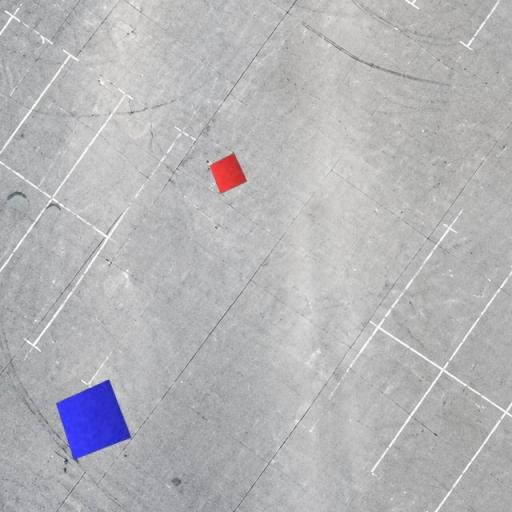BLUE_SQUARE: (55, 379, 132, 461)
RED_SQUARE: (210, 152, 248, 194)
